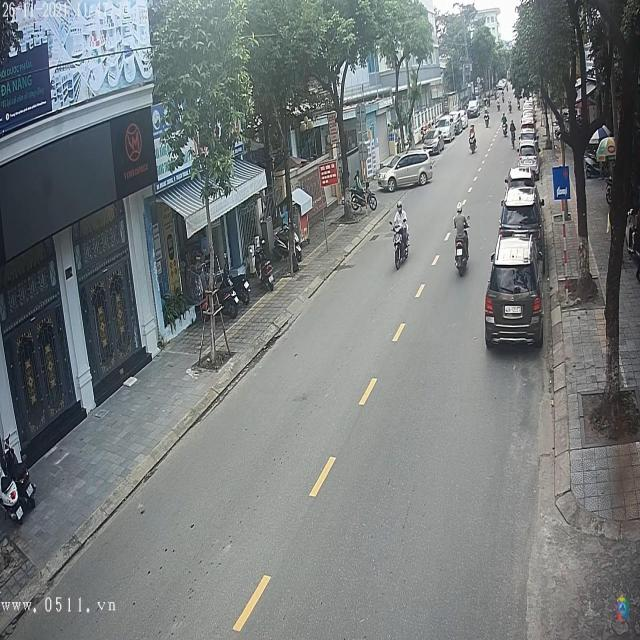car: (485, 238, 543, 350), (500, 186, 544, 239), (377, 151, 433, 192), (424, 113, 463, 147), (424, 126, 446, 155), (518, 130, 537, 150), (468, 99, 480, 118)
motorcycle: (454, 221, 471, 277), (394, 224, 410, 266), (469, 132, 477, 154)
